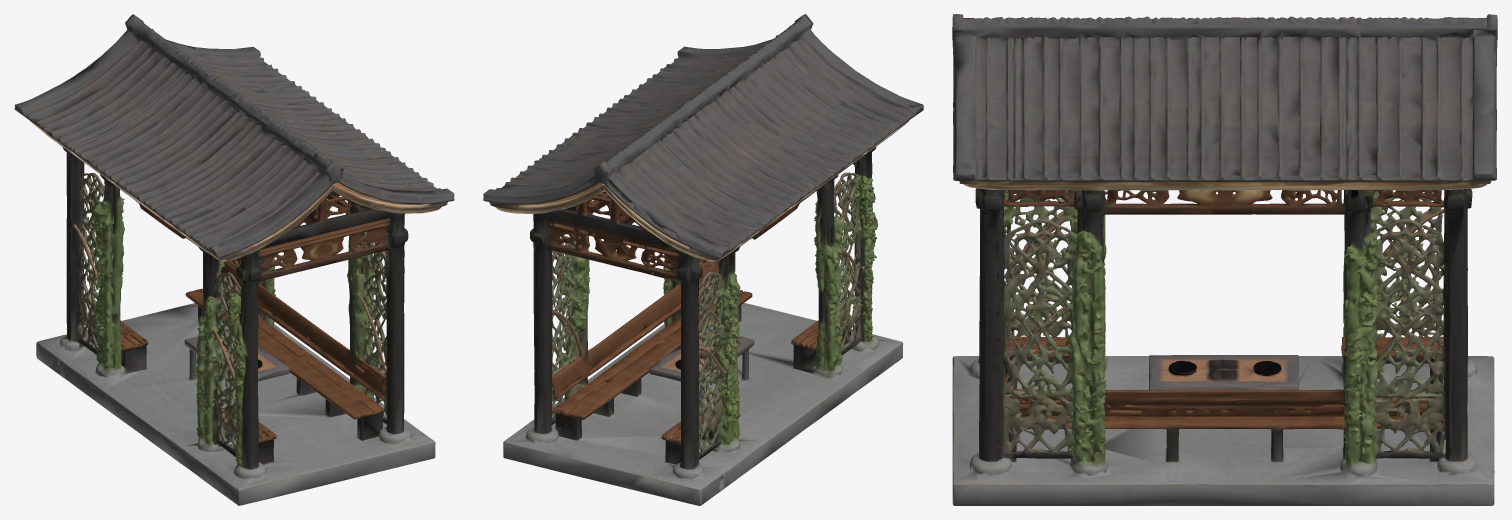
Rendered from timber-garden-pavilion.glb.
3 views of the same model, side by side, from view 1: azimuth 30°, elevation 25°; view 2: azimuth 150°, elevation 25°; view 3: azimuth 270°, elevation 25° (orthographic). The views are drawn at different scales.
Visible parts, largest first — view 1: world; view 2: world; view 3: world.
Boxes of the visible parts, bbox=[...] form: world: bbox=[14, 14, 454, 505]; world: bbox=[483, 14, 923, 505]; world: bbox=[952, 14, 1497, 505].
Bounding box in the file's own units: 0.6801 × 0.8687 × 1.
Materials: 1 (1 with a texture image).
